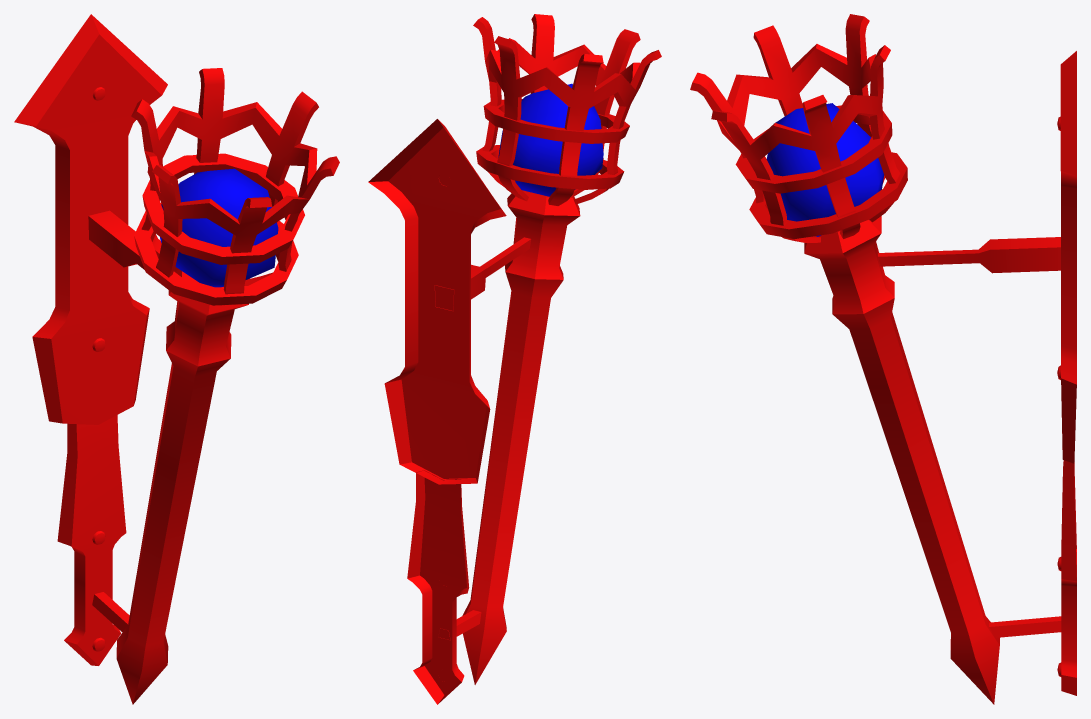
Rendered from Dugeon_WallTorchMetal.fbx.
The picture shows the model from 3 angles, left to right: view 1: azimuth 30°, elevation 25°; view 2: azimuth 150°, elevation 25°; view 3: azimuth 270°, elevation 25°; orthographic projection. The views are drawn at different scales.
Visible parts, largest first — view 1: metal_torch_sconce, fuel_source; view 2: metal_torch_sconce, fuel_source; view 3: metal_torch_sconce, fuel_source.
Boxes of the visible parts, left/top/right/bottom form: metal_torch_sconce: left=14, top=14, right=339, bottom=704; fuel_source: left=160, top=168, right=278, bottom=287; metal_torch_sconce: left=368, top=14, right=661, bottom=704; fuel_source: left=498, top=83, right=603, bottom=196; metal_torch_sconce: left=690, top=14, right=1076, bottom=704; fuel_source: left=766, top=103, right=884, bottom=236.
Bounding box in the file's own units: 19.62 × 68.89 × 36.22.
